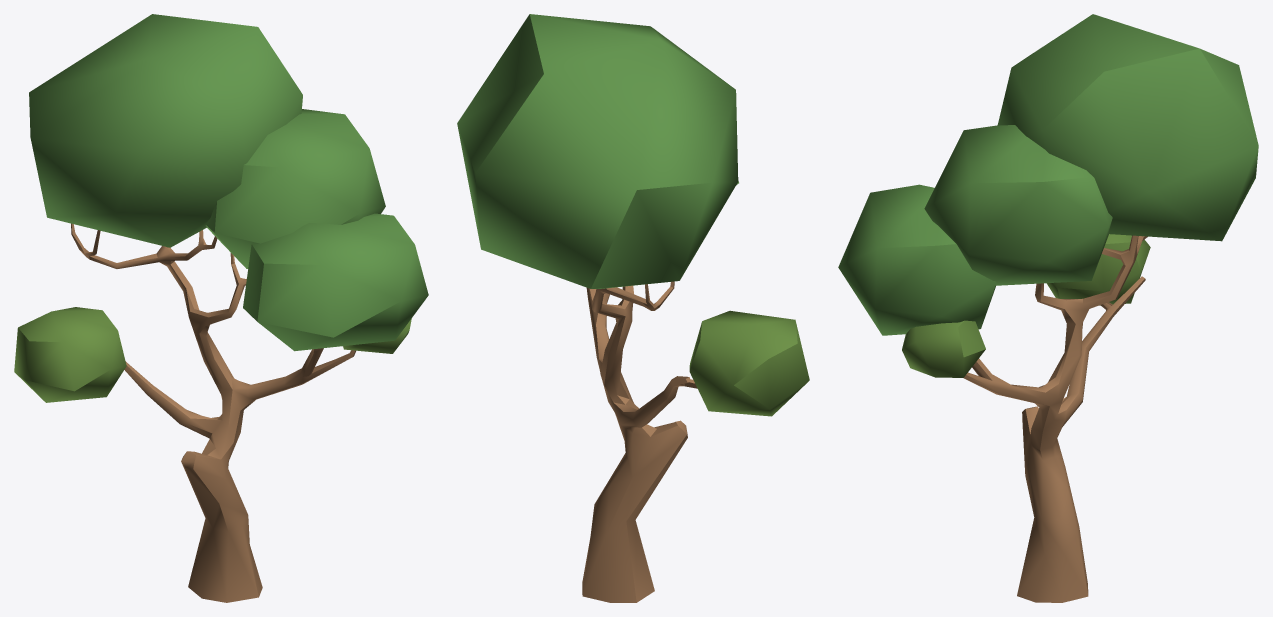
File: Tree01.fbx
3 views of the same model, side by side, from view 1: azimuth 30°, elevation 25°; view 2: azimuth 150°, elevation 25°; view 3: azimuth 270°, elevation 25° (orthographic). The views are drawn at different scales.
Parts seen in each view (by area): view 1: Tree01; view 2: Tree01; view 3: Tree01.
Boxes of the visible parts, x1,y1,x2,y2 form: Tree01: (14,14,428,602); Tree01: (457,14,809,602); Tree01: (838,14,1258,602).
Size of the model in its own units: 3.27 by 5.18 by 3.62.
